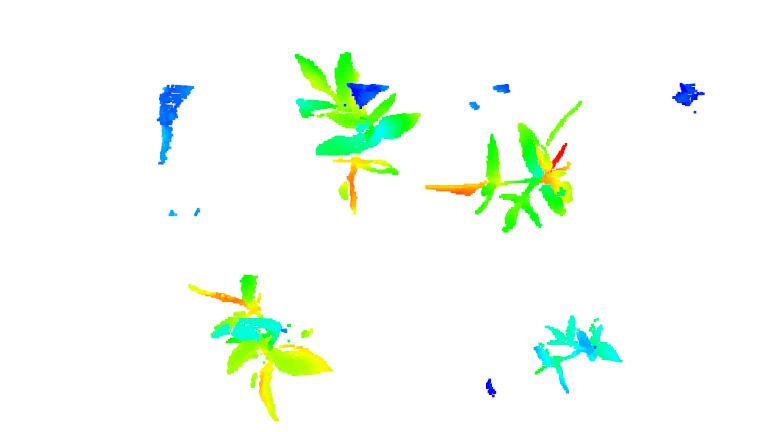mungbean: (178, 272, 336, 422), (290, 42, 427, 212), (424, 121, 581, 229), (528, 312, 633, 393)
